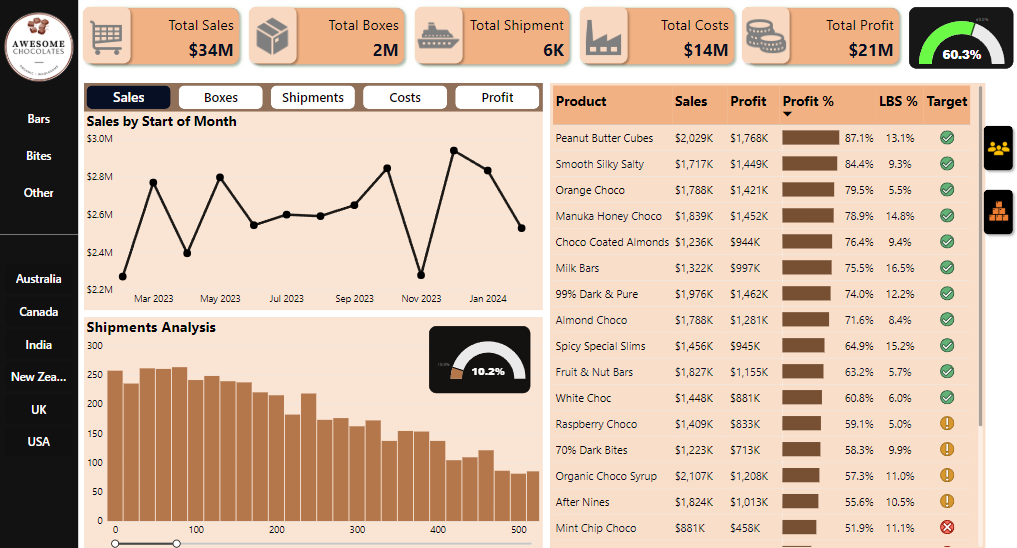

What the dashboard file says about the page in this screenshot:
{"tool":"powerbi","page":{"name":"Sales Dashboard","canvas":[2000,1080],"ordinal":0},"visuals":[{"type":"cardVisual","fields":{"Data":["_Measures.Total Sales","_Measures.Total Boxes","_Measures.Total Shipments","_Measures.Total Costs","_Measures.Total Profit"]},"box":[155.5,0,1630.8,146.9],"z":0},{"type":"gauge","fields":{"Y":["_Measures.Profit %"]},"box":[1786.3,15.1,205.2,121],"z":1000},{"type":"lineChart","fields":{"Y":["_Measures.Total Shipment"],"Category":["calendar.Start of Month"]},"box":[166.9,219.9,901.3,390.8],"z":2000},{"type":"advancedSlicerVisual","fields":{"Values":["Measure Selector.Measure Selector"]},"box":[166.3,164.2,900.7,56.2],"z":3000},{"type":"columnChart","title":"Shipments Analysis","fields":{"Category":["shipments.Boxes (bins)"],"Y":["_Measures.Total Shipments"]},"box":[166.3,624.2,900.7,455.8],"z":4000},{"type":"gauge","fields":{"Y":["_Measures.LBS %"]},"box":[844.6,641.5,198.7,131.8],"z":5000},{"type":"shape","box":[155.5,6.5,112.3,129.6],"z":8000},{"type":"shape","box":[481.7,6.5,112.3,129.6],"z":9000},{"type":"shape","box":[807.8,6.5,112.3,129.6],"z":10000},{"type":"shape","box":[1131.8,6.5,112.3,129.6],"z":11000},{"type":"shape","box":[1449.4,6.5,112.3,129.6],"z":12000},{"type":"image","box":[166.3,21.6,90.7,108],"z":13000},{"type":"image","box":[470.9,23.8,131.8,99.4],"z":14000},{"type":"image","box":[814.3,13,97.2,116.6],"z":15000},{"type":"tableEx","title":"Product table","fields":{"Values":["products.Product","_Measures.Total Sales","_Measures.Total Profit","_Measures.Profit %","_Measures.LBS %","_Measures.profit target indicator"]},"box":[1082.2,164.2,855.4,915.8],"z":17000},{"type":"image","box":[1131.8,21.6,112.3,108],"z":19000},{"type":"shape","box":[1924.6,239.8,75.6,105.8],"z":21000},{"type":"image","box":[1438.6,23.8,131.8,99.4],"z":22000},{"type":"shape","box":[1924.6,365,75.6,105.8],"z":23000},{"type":"image","title":"People","box":[1933.2,246.2,58.3,95],"z":23001},{"type":"image","title":"Produt","box":[1933.2,371.5,58.3,90.7],"z":23002},{"type":"shape","box":[0,0,155.5,1080],"z":23003},{"type":"image","box":[0,21.6,157.7,144.7],"z":23004},{"type":"advancedSlicerVisual","fields":{"Values":["products.Category"]},"box":[8.6,196.6,140.4,222.5],"z":23005},{"type":"advancedSlicerVisual","fields":{"Values":["locations.Geo"]},"box":[8.6,516.2,140.4,388.8],"z":23006},{"type":"shape","box":[0,408.2,155.5,108],"z":23007}]}

Visuals, with their boxes in screenshot pixels (x1, y1, x2, y2), scaled from the page's 2000x1080 canvas onto the 1017x548 screenshot:
cardVisual - _Measures.Total Sales x _Measures.Total Boxes: x1=79, y1=0, x2=908, y2=75
gauge - _Measures.Profit %: x1=908, y1=8, x2=1013, y2=69
lineChart - _Measures.Total Shipment x calendar.Start of Month: x1=85, y1=112, x2=543, y2=310
advancedSlicerVisual - Measure Selector.Measure Selector: x1=85, y1=83, x2=543, y2=112
"Shipments Analysis" columnChart: x1=85, y1=317, x2=543, y2=547
gauge - _Measures.LBS %: x1=429, y1=326, x2=531, y2=392
shape: x1=79, y1=3, x2=136, y2=69
shape: x1=245, y1=3, x2=302, y2=69
shape: x1=411, y1=3, x2=468, y2=69
shape: x1=576, y1=3, x2=633, y2=69
shape: x1=737, y1=3, x2=794, y2=69
image: x1=85, y1=11, x2=131, y2=66
image: x1=239, y1=12, x2=306, y2=63
image: x1=414, y1=7, x2=463, y2=66
"Product table" tableEx: x1=550, y1=83, x2=985, y2=547
image: x1=576, y1=11, x2=633, y2=66
shape: x1=979, y1=122, x2=1016, y2=175
image: x1=732, y1=12, x2=799, y2=63
shape: x1=979, y1=185, x2=1016, y2=239
"People" image: x1=983, y1=125, x2=1013, y2=173
"Produt" image: x1=983, y1=189, x2=1013, y2=235
shape: x1=0, y1=0, x2=79, y2=547
image: x1=0, y1=11, x2=80, y2=84
advancedSlicerVisual - products.Category: x1=4, y1=100, x2=76, y2=213
advancedSlicerVisual - locations.Geo: x1=4, y1=262, x2=76, y2=459
shape: x1=0, y1=207, x2=79, y2=262
